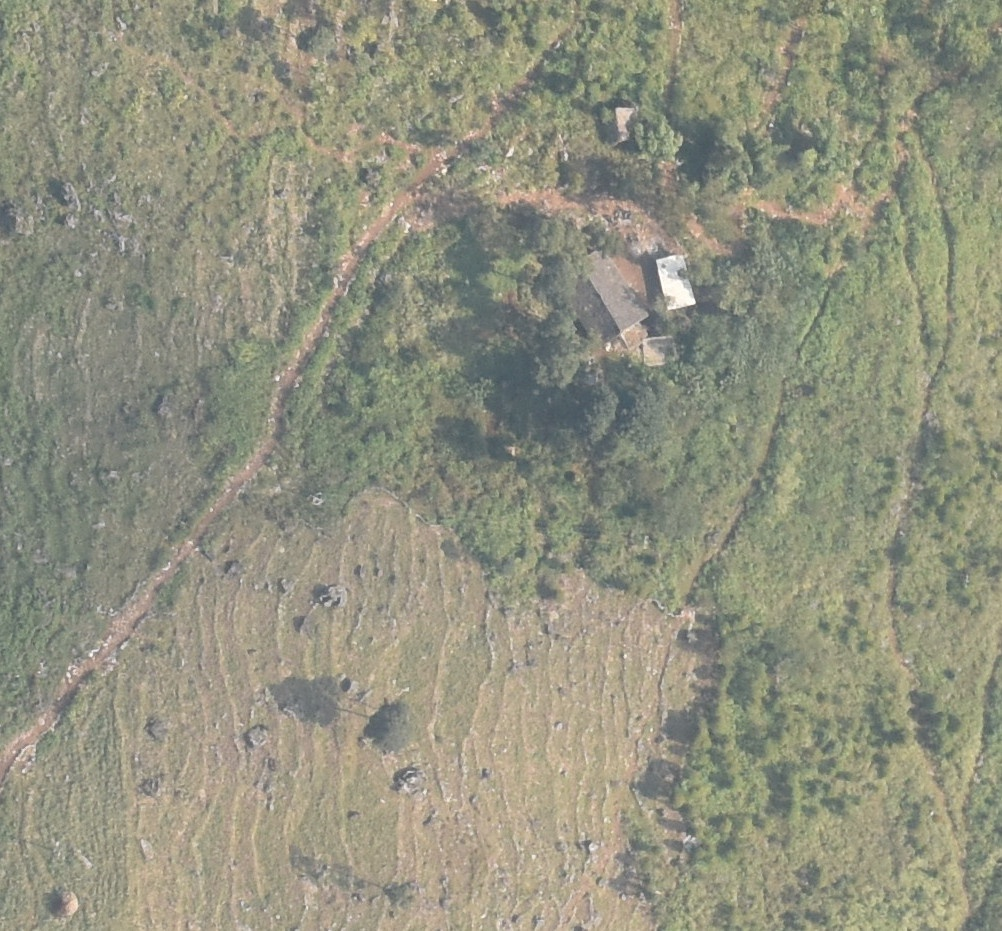building: (556, 249, 653, 345), (655, 253, 697, 311), (601, 108, 642, 146), (641, 336, 679, 366)
cable-tower: (641, 534, 651, 551), (962, 574, 972, 589)
